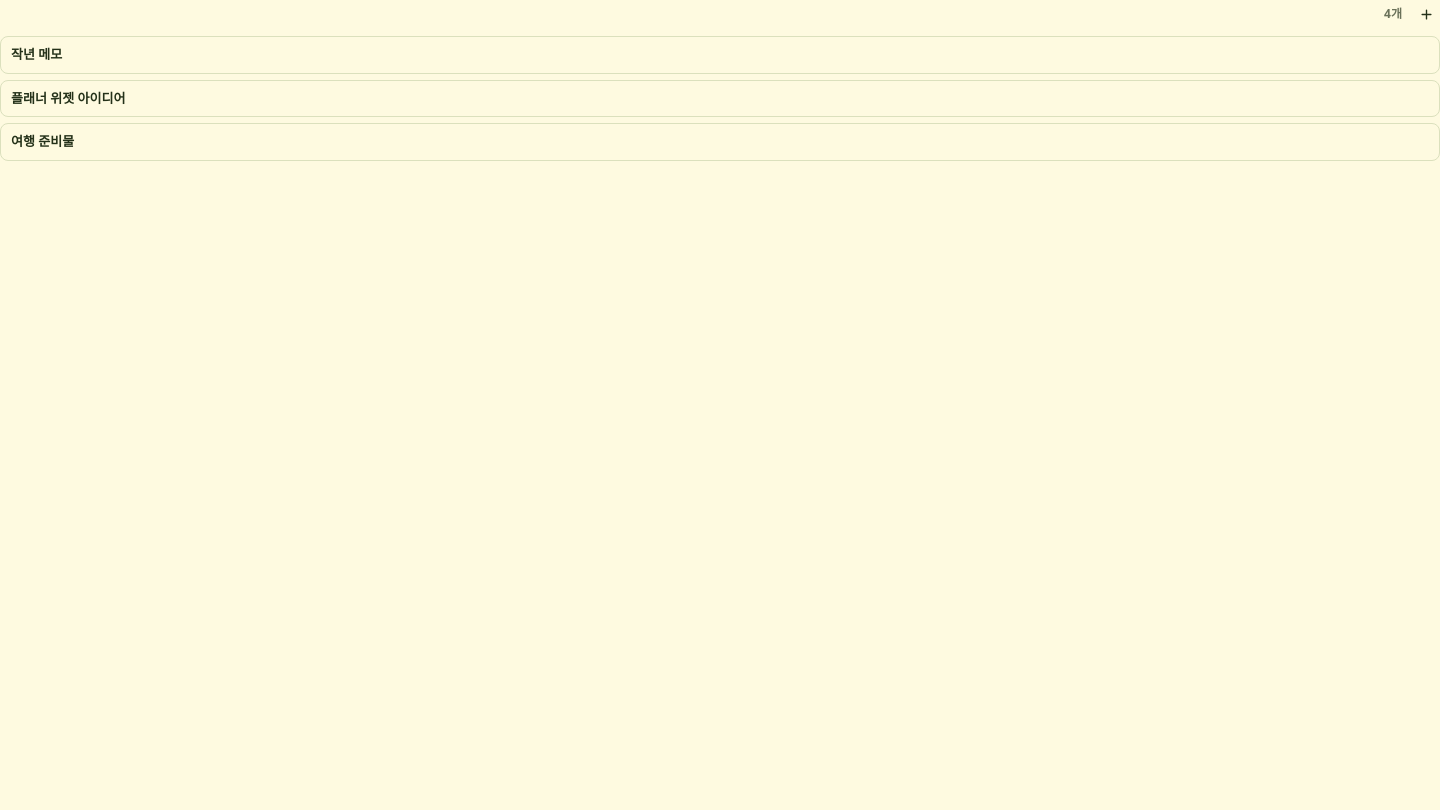
Test: PC 사이드바 메모 섹션 (US-25, D-055) › 'n개'를 누르면 메모 창(OV-06)이 열린다 (D-055)
Click the button named "메모 4개 모두 보기" at (1393, 14), box [1378,4,1408,24]
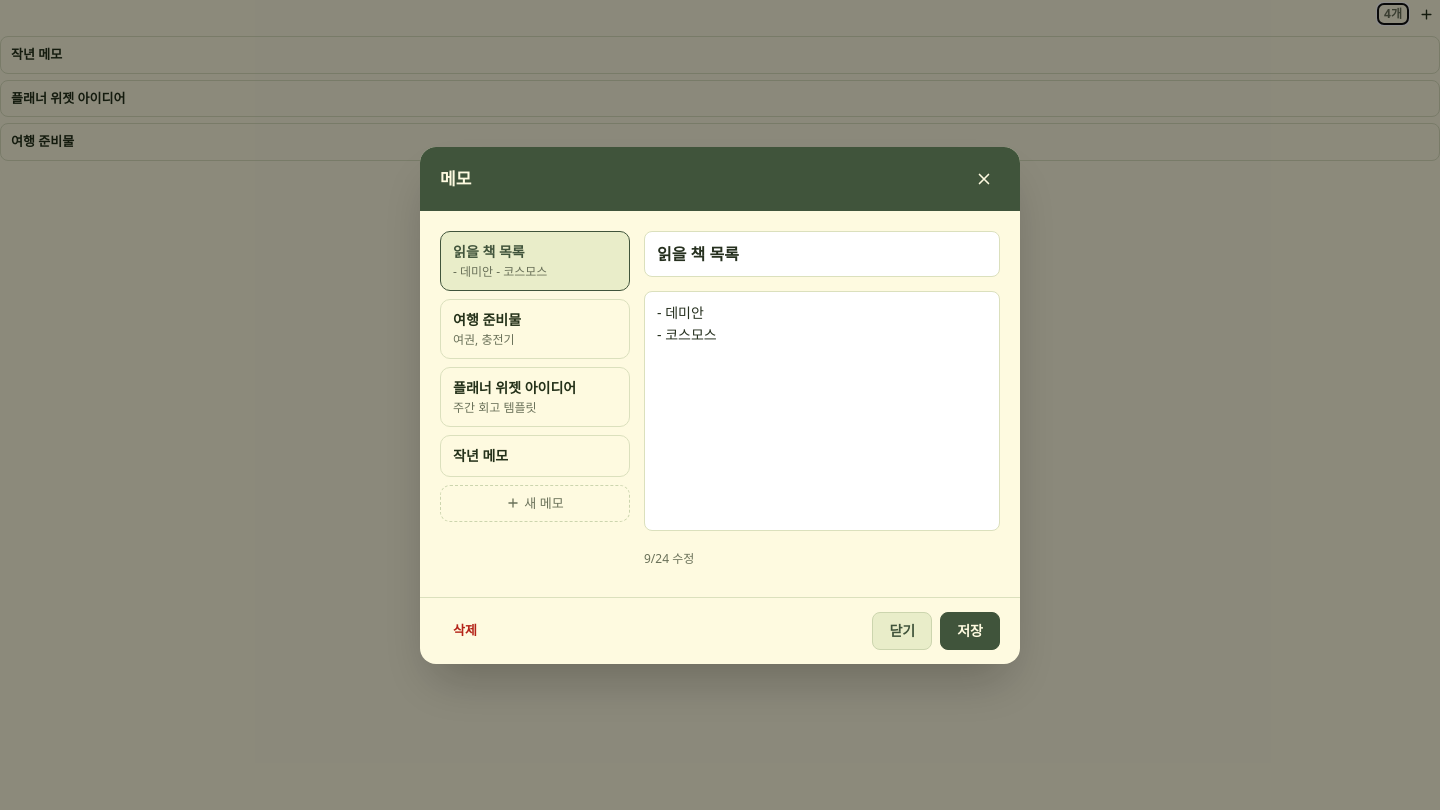
Expected: the dialog "메모" is shown, [420,146,1020,664]
Expected: the field named "메모 제목" holds "읽을 책 목록", [644,230,1000,276]
